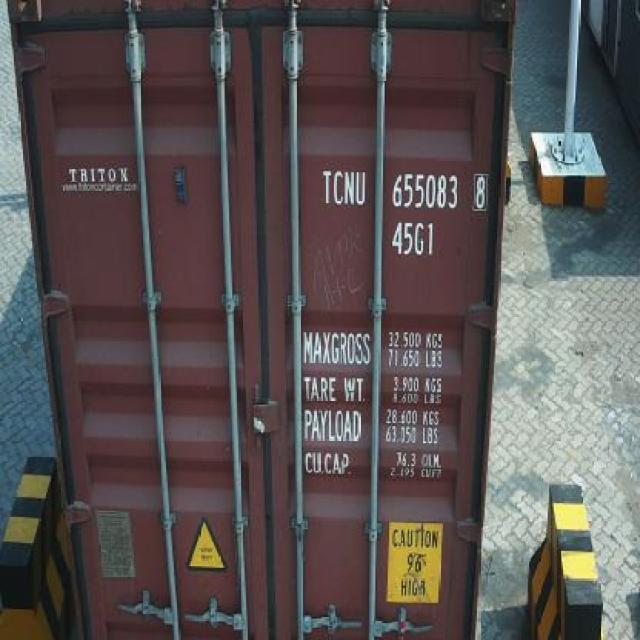ISO: (391, 223, 439, 254)
container_number: (320, 168, 492, 208)
